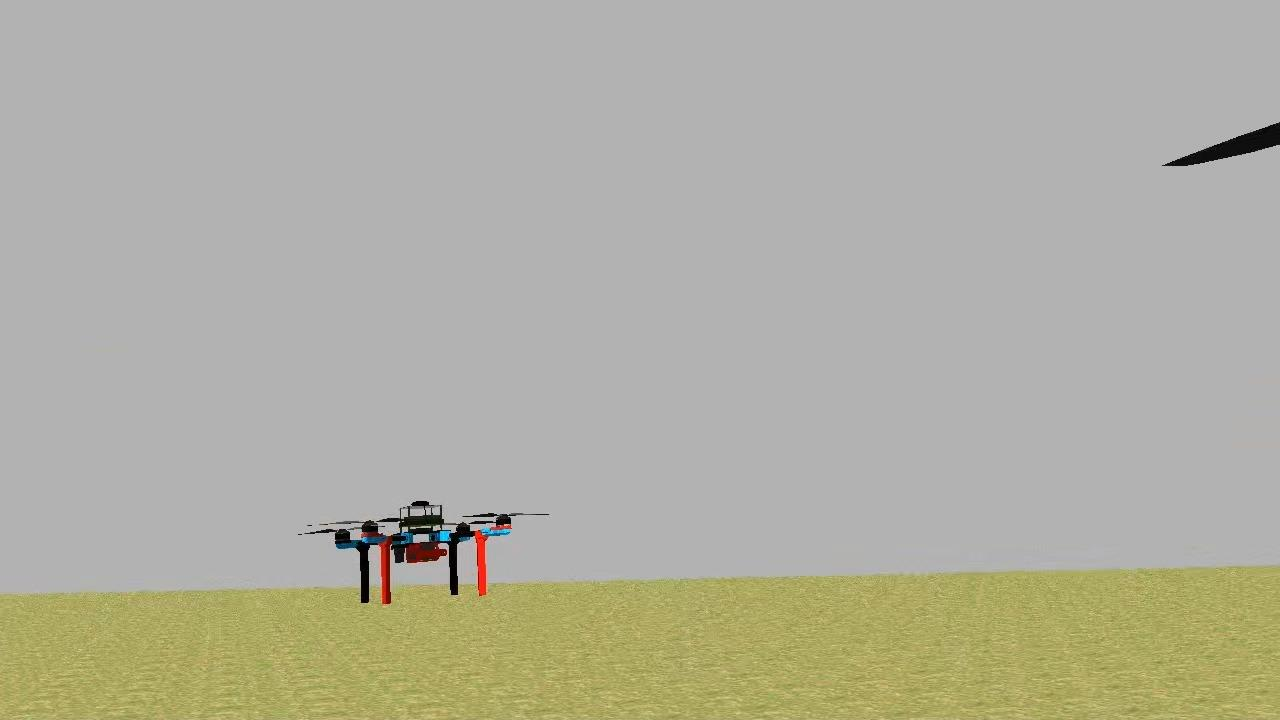UAV: (330, 494, 520, 606)
